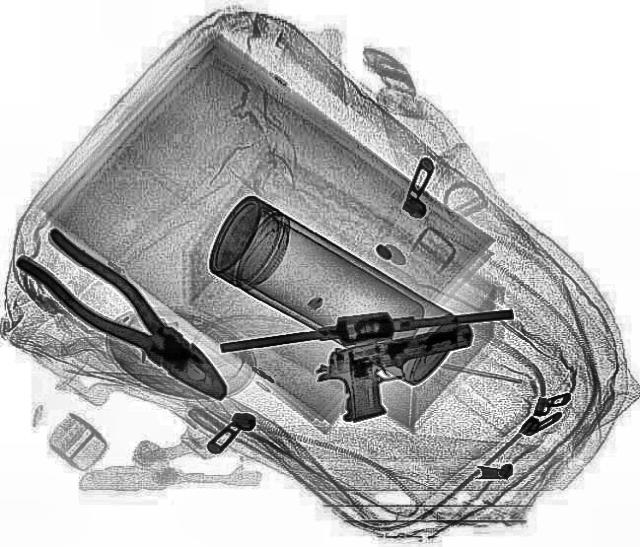Gun: (306, 322, 488, 426)
Pliers: (8, 222, 248, 414)
